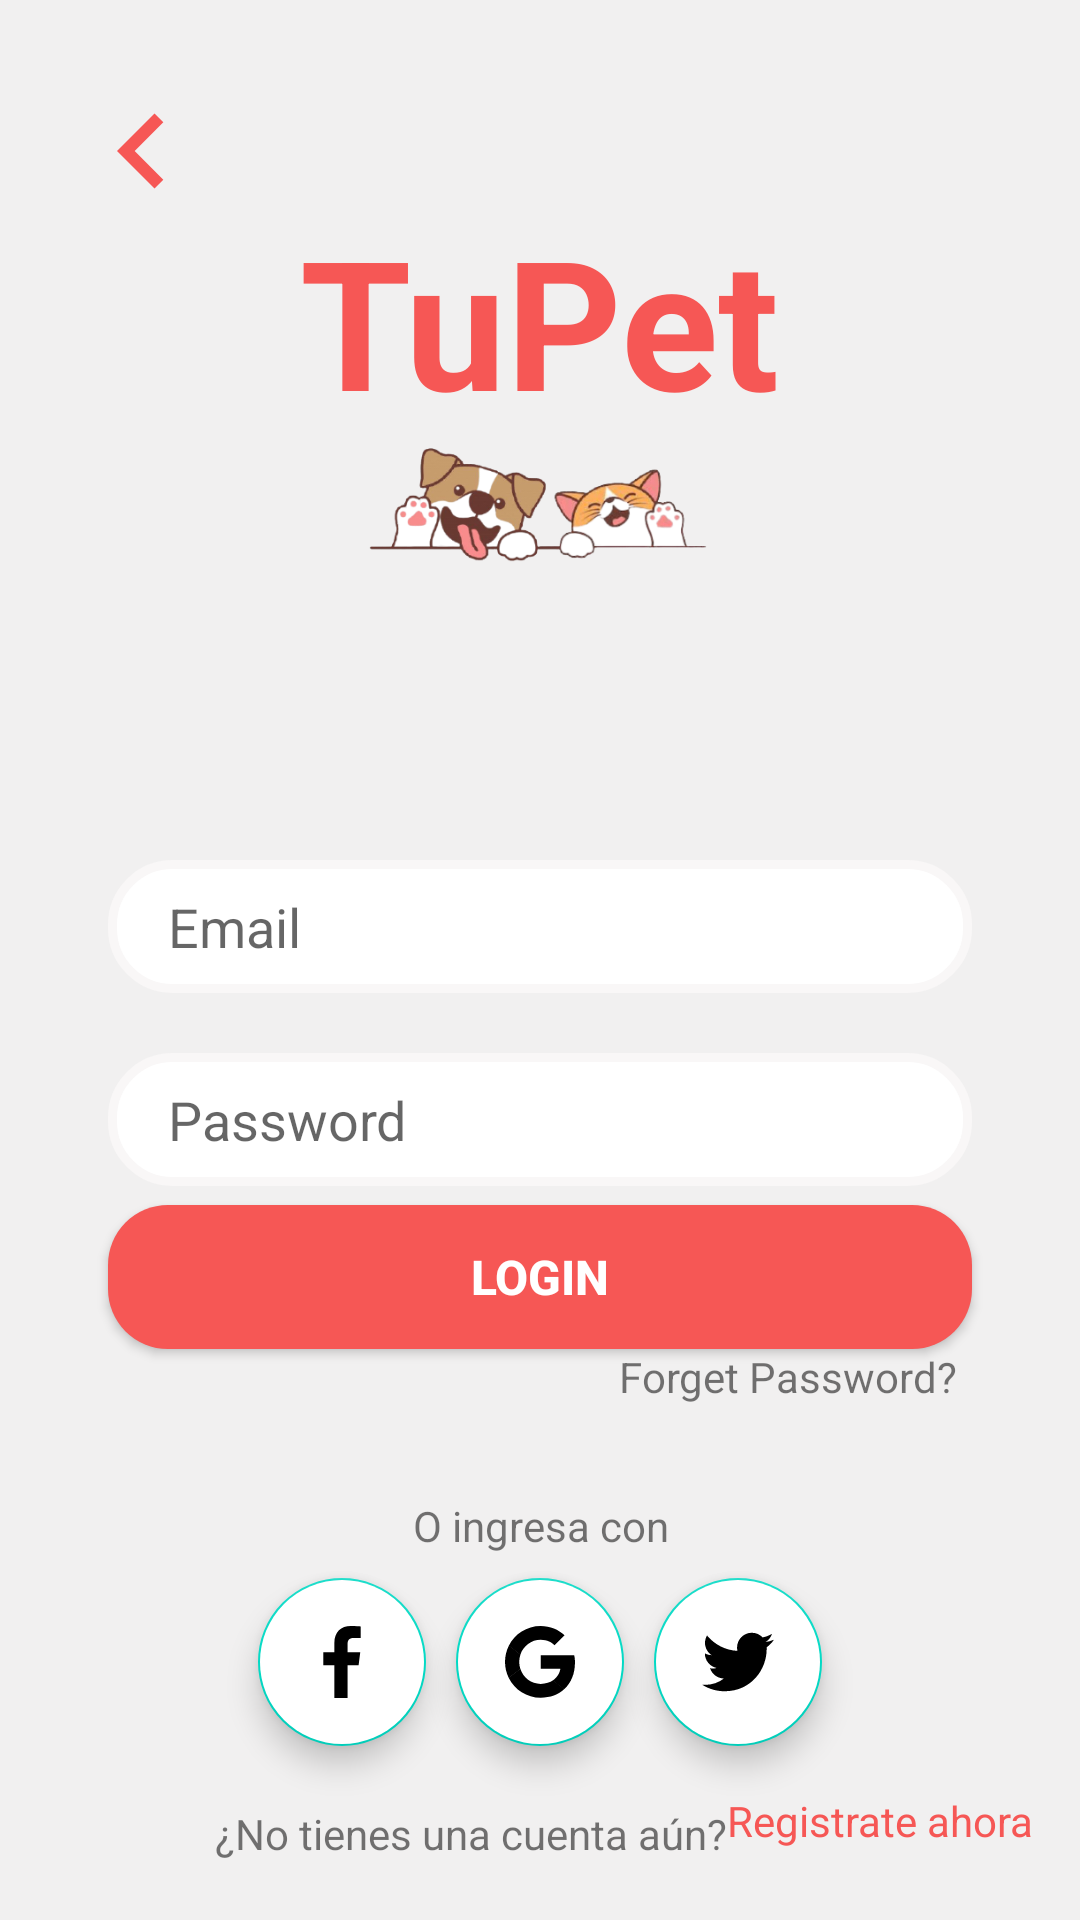

Icons on this 1080×1920 Android screen, each with the point to tap as point (x, y):
keyboard arrow left: point (140, 151)
